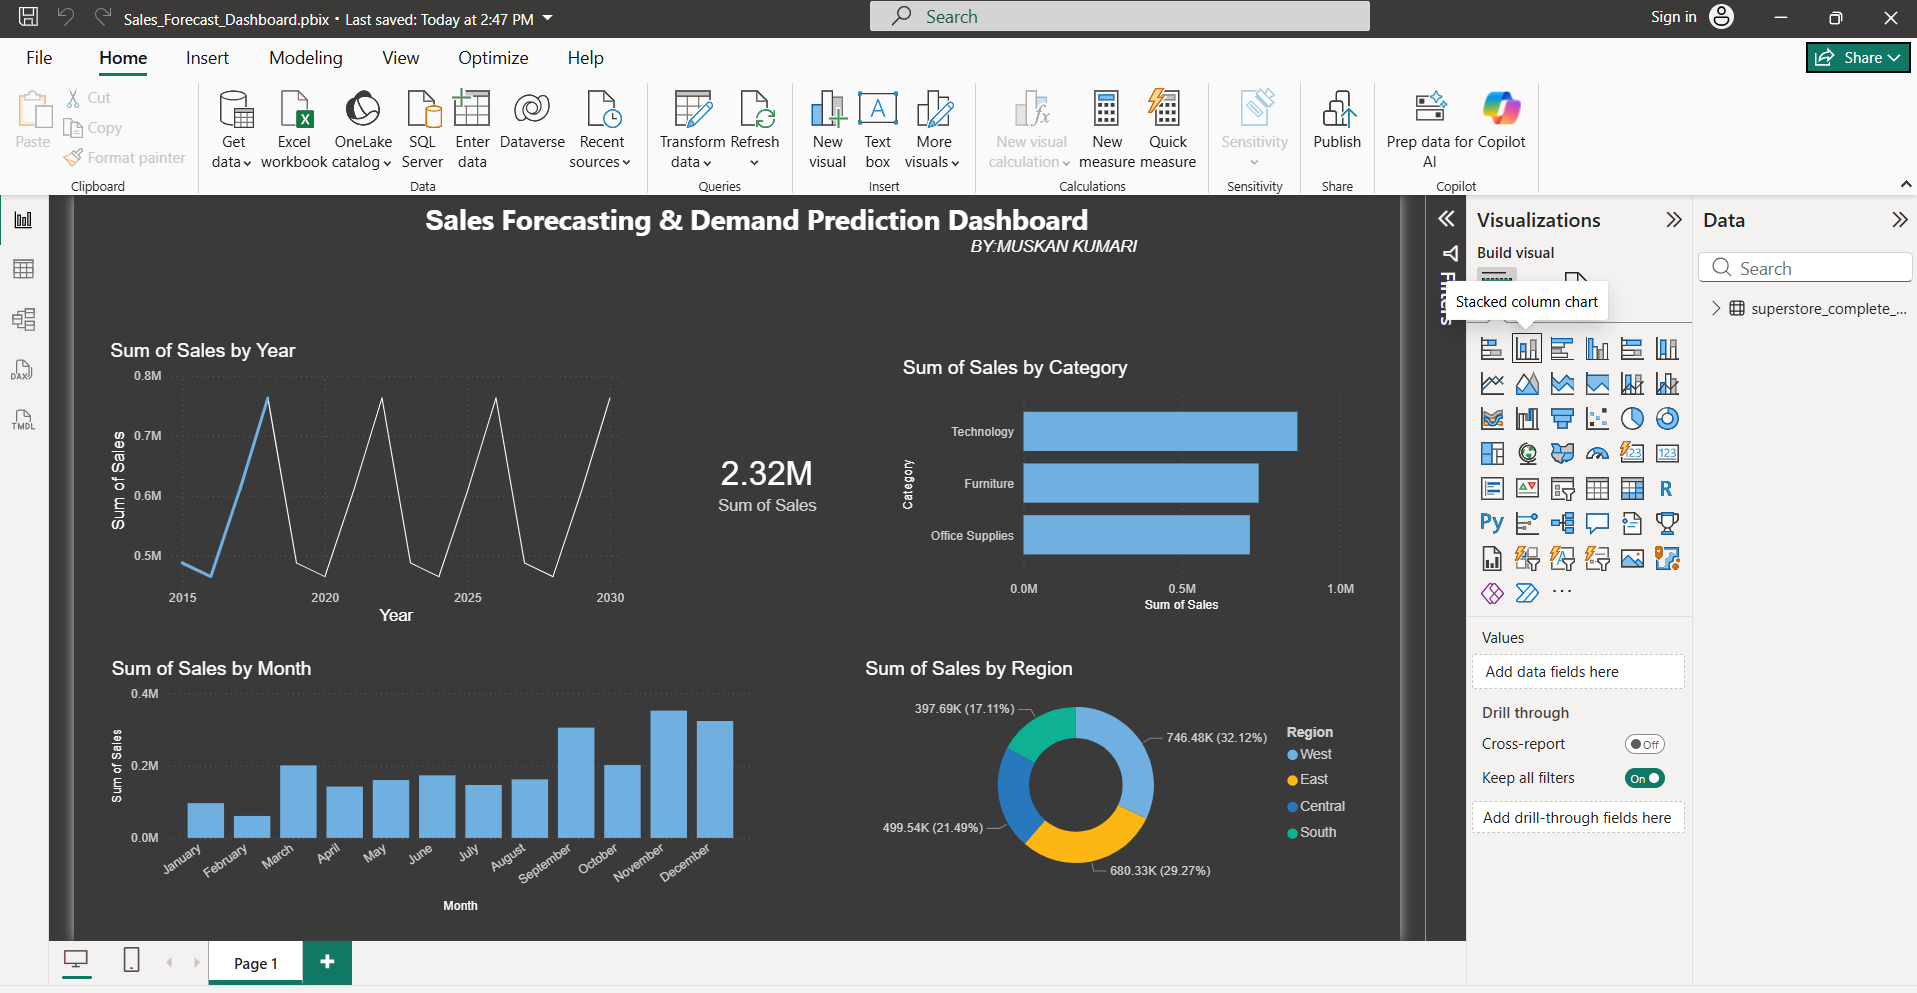

What the dashboard file says about the page in this screenshot:
{"tool":"powerbi","page":{"name":"Page 1","canvas":[1280,720],"ordinal":0},"visuals":[{"type":"lineChart","fields":{"Category":["superstore_complete_10000 (1).Order_Date.Variation.Date Hierarchy.Year","superstore_complete_10000 (1).Order_Date.Variation.Date Hierarchy.Month"],"Y":["Sum(superstore_complete_10000 (1).Sales)"]},"box":[30.2,140,506.3,279.9],"z":0},{"type":"clusteredBarChart","fields":{"Category":["superstore_complete_10000 (1).Category"],"Y":["Sum(superstore_complete_10000 (1).Sales)"]},"box":[794.5,155.1,446,251.1],"z":1000},{"type":"donutChart","fields":{"Category":["superstore_complete_10000 (1).Region"],"Y":["Sum(superstore_complete_10000 (1).Sales)"]},"box":[758.9,446.4,482.6,225.6],"z":2000},{"type":"card","fields":{"Values":["Sum(superstore_complete_10000 (1).Sales)"]},"box":[557.1,172.9,223.7,208.6],"z":3000},{"type":"clusteredColumnChart","fields":{"Category":["superstore_complete_10000 (1).Order_Date.Variation.Date Hierarchy.Month"],"Y":["Sum(superstore_complete_10000 (1).Sales)"]},"box":[31.4,446.4,628.6,250.9],"z":4000},{"type":"textbox","box":[212.7,0,893.3,71.4],"z":5000},{"type":"textbox","box":[860.4,35.7,177,35.7],"z":6000}]}

Visuals, with their boxes on the page's 1280x720 design canvas (x1, y1, x2, y2). These are canvas units, not pixel positions in the 1917x993 screenshot, which may show the page scaled, cropped or inside an application window:
lineChart - superstore_complete_10000 (1).Order_Date.Variation.Date Hierarchy.Year x superstore_complete_10000 (1).Order_Date.Variation.Date Hierarchy.Month: box=[30, 140, 536, 420]
clusteredBarChart - superstore_complete_10000 (1).Category x Sum(superstore_complete_10000 (1).Sales): box=[794, 155, 1240, 406]
donutChart - superstore_complete_10000 (1).Region x Sum(superstore_complete_10000 (1).Sales): box=[759, 446, 1242, 672]
card - Sum(superstore_complete_10000 (1).Sales): box=[557, 173, 781, 382]
clusteredColumnChart - superstore_complete_10000 (1).Order_Date.Variation.Date Hierarchy.Month x Sum(superstore_complete_10000 (1).Sales): box=[31, 446, 660, 697]
textbox: box=[213, 0, 1106, 71]
textbox: box=[860, 36, 1037, 71]
